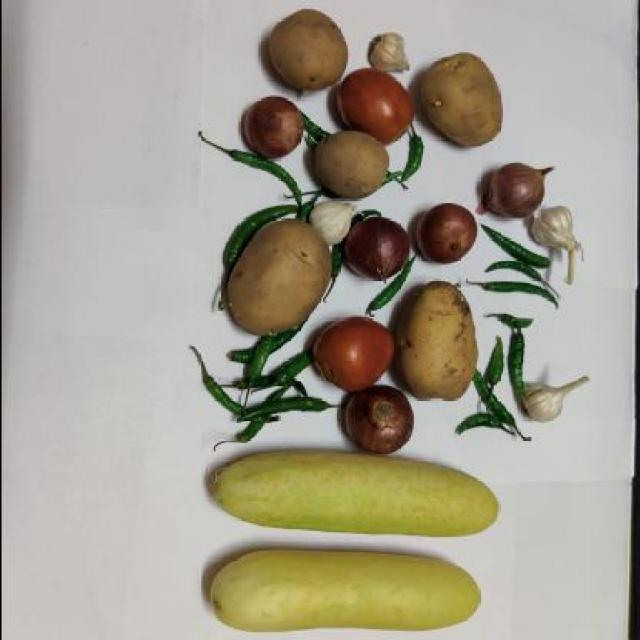Garlic: (516, 360, 590, 434), (530, 203, 586, 291), (358, 23, 417, 69), (311, 196, 360, 242)
Green Chili: (192, 334, 325, 442), (212, 149, 306, 208), (469, 348, 522, 443), (478, 223, 552, 282), (471, 276, 558, 310), (478, 302, 537, 349), (392, 132, 422, 191)
Onion: (477, 156, 560, 218), (342, 388, 416, 456), (412, 200, 477, 268), (238, 96, 306, 158), (346, 215, 406, 280)
Potato: (225, 228, 326, 336), (397, 277, 480, 403), (250, 5, 350, 94), (422, 46, 504, 145)
Tomato: (311, 316, 397, 398), (332, 67, 418, 146)
cucumber: (198, 443, 500, 545), (188, 543, 488, 640)
